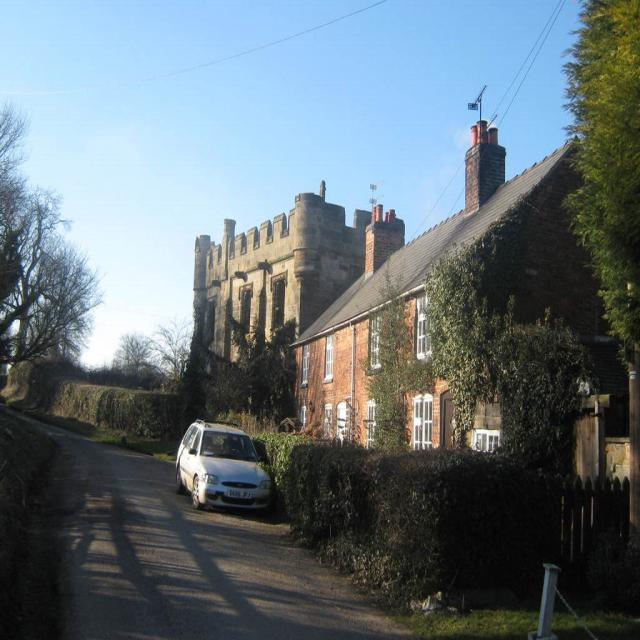other: (174, 423, 275, 517)
